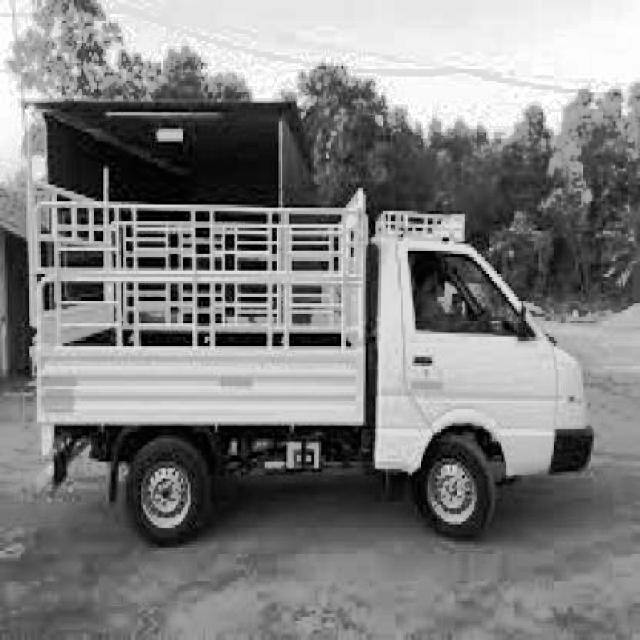LCV: (20, 101, 578, 544)
